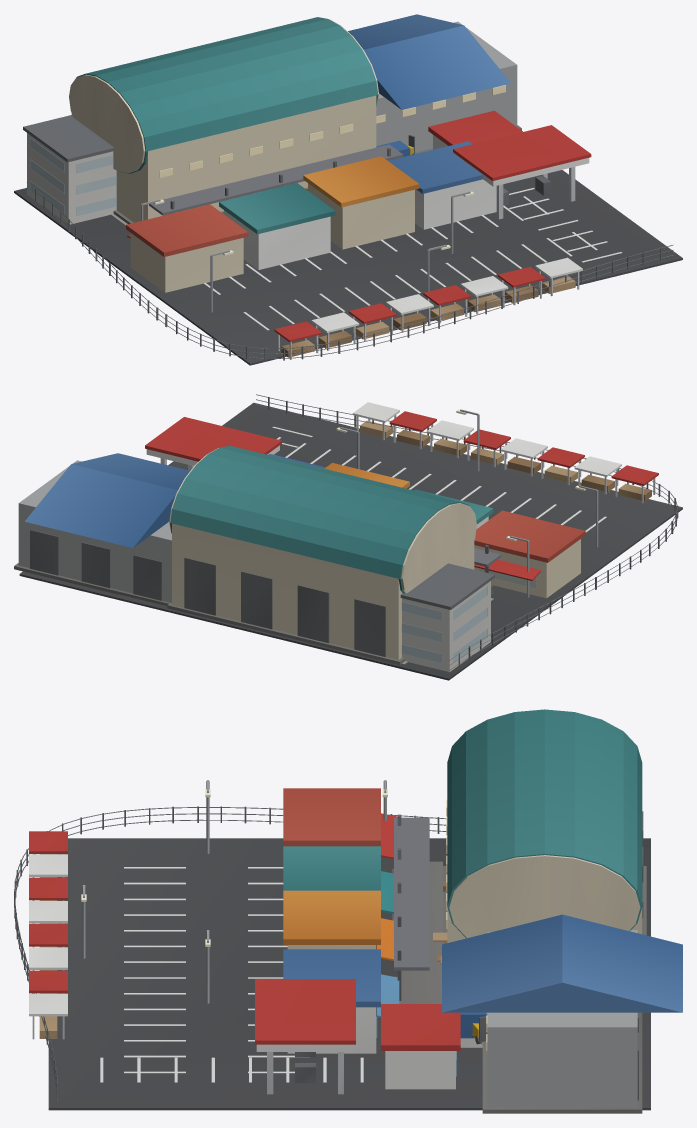
File: Market_P3.fbx
The picture shows the model from 3 angles, top to bottom: view 1: azimuth 30°, elevation 25°; view 2: azimuth 150°, elevation 25°; view 3: azimuth 270°, elevation 25°; orthographic projection. The views are drawn at different scales.
Parts seen in each view (by area): view 1: Market.WH1, Market.Pad, Market.WH2, Market.Stalls, Market.Office, Market.Shop0, Market.Shop2, Market.Shop1, Market.Fuel, Market.Shop3, Market.Fence, Market.Dock (+2 smaller); view 2: Market.WH1, Market.Pad, Market.WH2, Market.Stalls, Market.Office, Market.Shop0, Market.Fuel, Market.Fence, Market.Bays, Market.Shop2, Market.Shop1; view 3: Market.Pad, Market.WH1, Market.WH2, Market.Fuel, Market.Dock, Market.Stalls, Market.FuelShop, Market.Shop2, Market.Shop0, Market.Shop3, Market.Shop1, Market.Bays (+2 smaller).
Boxes of the visible parts, <box> form: Market.WH1: <box>69,17,378,224</box>; Market.Pad: <box>14,170,682,365</box>; Market.WH2: <box>348,14,521,153</box>; Market.Stalls: <box>274,257,582,359</box>; Market.Office: <box>23,115,116,224</box>; Market.Shop0: <box>126,204,248,292</box>; Market.Shop2: <box>303,156,419,249</box>; Market.Shop1: <box>219,183,335,269</box>; Market.Fuel: <box>453,125,591,219</box>; Market.Shop3: <box>388,141,496,229</box>; Market.Fence: <box>26,182,673,360</box>; Market.Dock: <box>149,144,403,215</box>; Market.WH1: <box>167,445,476,664</box>; Market.Pad: <box>19,402,682,680</box>; Market.WH2: <box>14,453,189,606</box>; Market.Stalls: <box>352,402,658,503</box>; Market.Office: <box>400,563,494,671</box>; Market.Shop0: <box>474,510,585,598</box>; Market.Fuel: <box>145,417,281,470</box>; Market.Fence: <box>256,394,678,670</box>; Market.Bays: <box>272,426,606,532</box>; Market.Shop2: <box>325,463,409,488</box>; Market.Shop1: <box>414,489,493,528</box>; Market.Pad: <box>48,838,650,1110</box>; Market.WH1: <box>443,709,646,1016</box>; Market.WH2: <box>442,914,682,1113</box>; Market.Fuel: <box>255,979,355,1094</box>; Market.Dock: <box>392,814,442,1003</box>; Market.Stalls: <box>29,831,67,1039</box>; Market.FuelShop: <box>381,1004,460,1089</box>; Market.Shop2: <box>283,890,393,960</box>; Market.Shop0: <box>283,788,397,859</box>; Market.Shop3: <box>283,949,399,1053</box>; Market.Shop1: <box>283,846,393,913</box>; Market.Bays: <box>100,867,363,1082</box>.
Bounding box in the file's own units: 7777 × 2041 × 7550.
